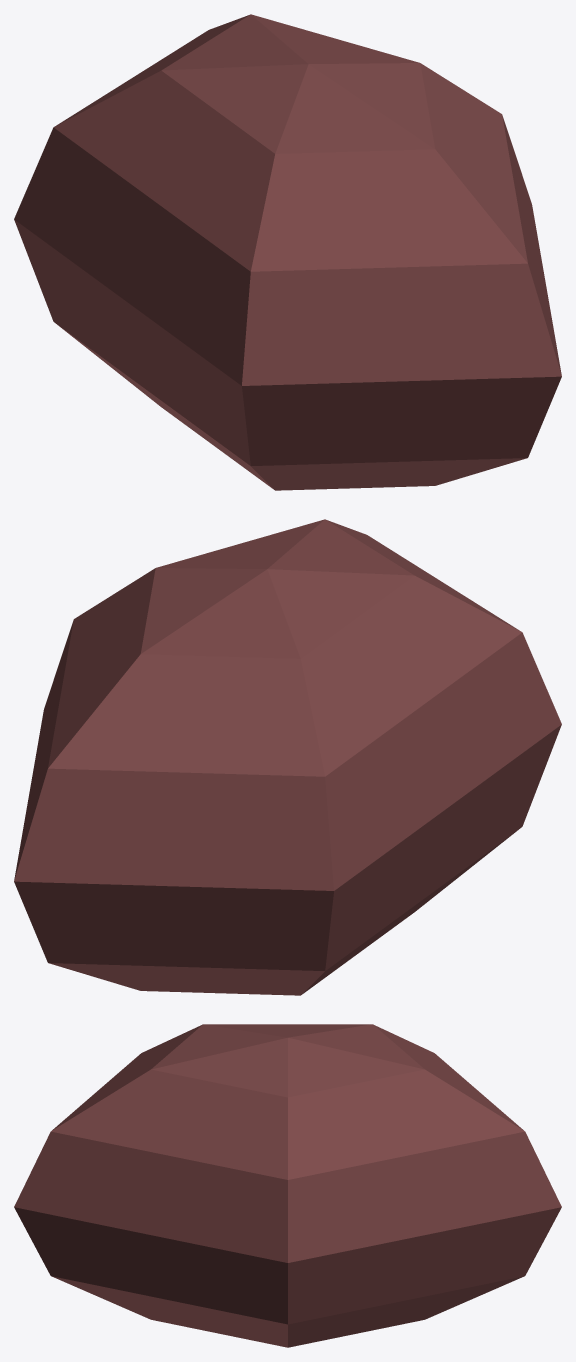
Rendered from west_rock05.fbx.
The picture shows the model from 3 angles, top to bottom: view 1: azimuth 30°, elevation 25°; view 2: azimuth 150°, elevation 25°; view 3: azimuth 270°, elevation 25°; orthographic projection. The views are drawn at different scales.
Visible parts, largest first — view 1: pSphere7; view 2: pSphere7; view 3: pSphere7.
Part boxes in pixels (x1,y1,x2,y2): pSphere7: (14,14,561,490); pSphere7: (14,519,561,995); pSphere7: (14,1024,561,1347).
Size of the model in its own units: 2.18 by 2 by 3.44.
